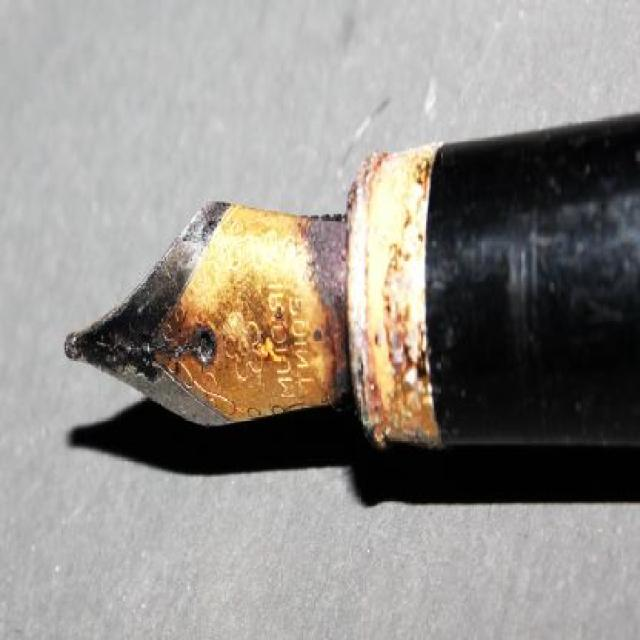corrosion: (61, 138, 447, 518)
